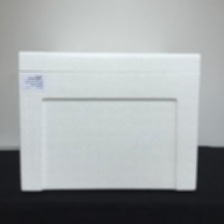foam_box: (14, 48, 205, 194)
